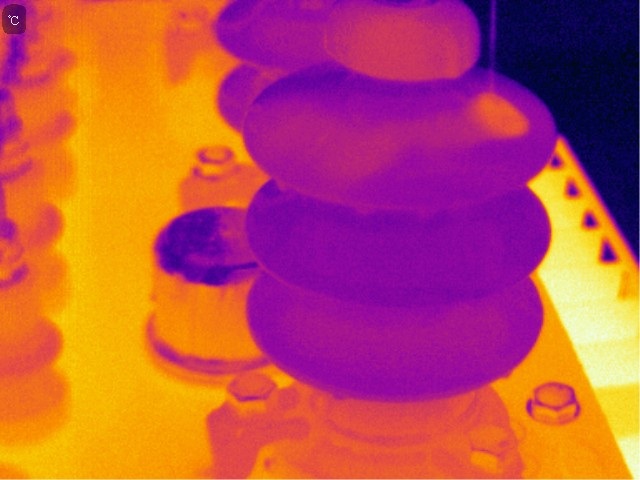Oil: (335, 9, 468, 81), (268, 99, 358, 166), (361, 124, 471, 157), (469, 89, 534, 143), (274, 180, 307, 206), (417, 203, 441, 221), (354, 199, 378, 217), (329, 384, 349, 402), (499, 367, 512, 381)
